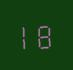eight: (36, 20, 52, 49)
one: (19, 20, 35, 50)
